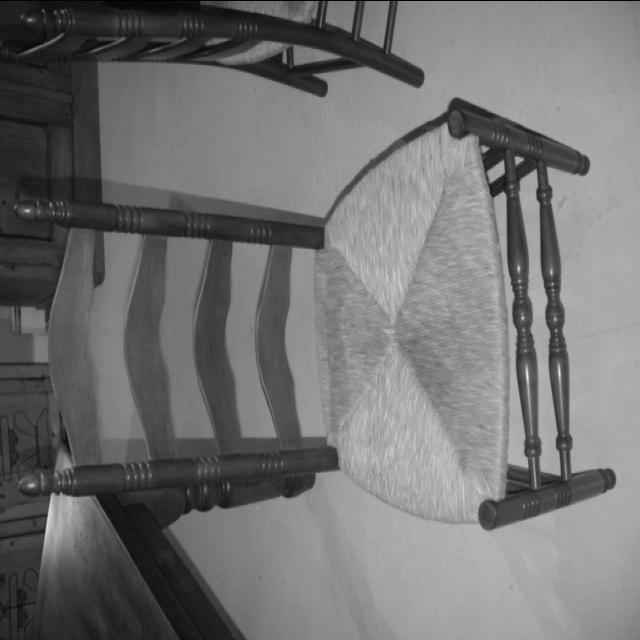chair: (14, 94, 615, 534)
